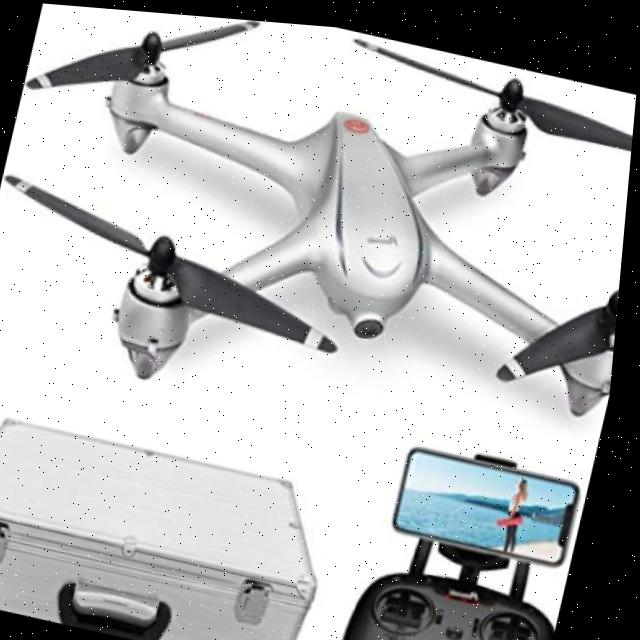drones: (0, 0, 640, 485)
